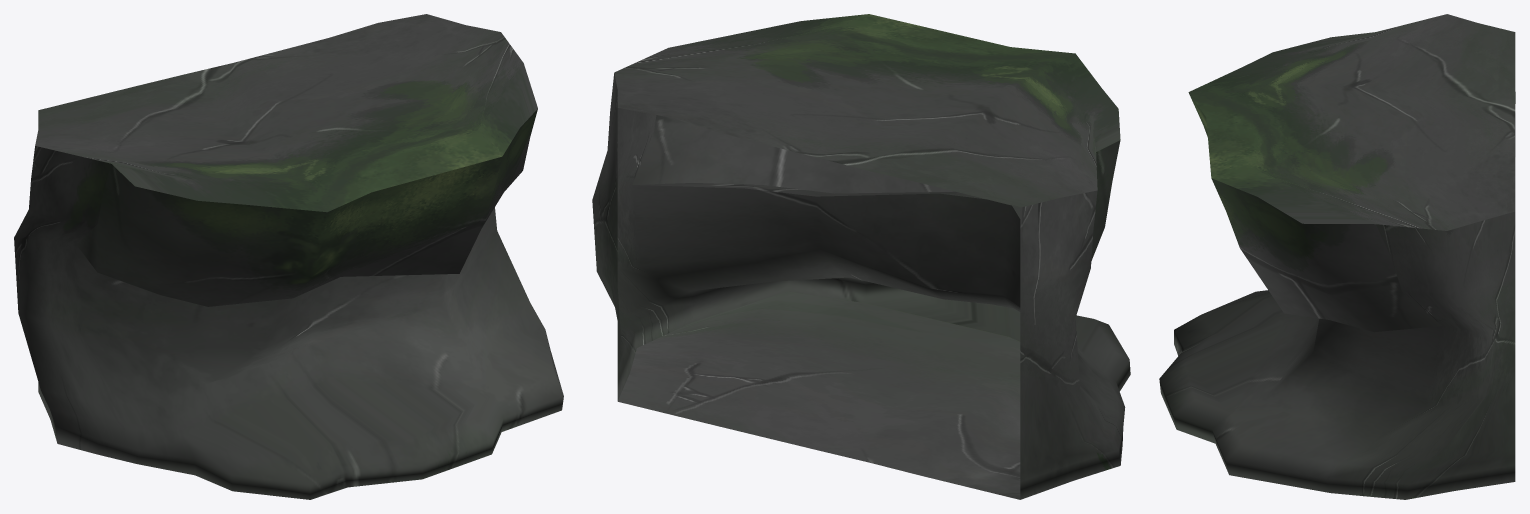
The model's file is cliff.fbx.
3 views of the same model, side by side, from view 1: azimuth 30°, elevation 25°; view 2: azimuth 150°, elevation 25°; view 3: azimuth 270°, elevation 25° (orthographic). The views are drawn at different scales.
Parts seen in each view (by area): view 1: pCube1; view 2: pCube1; view 3: pCube1.
Part boxes in pixels (x1,y1,x2,y2): pCube1: (14, 14, 563, 499); pCube1: (592, 14, 1130, 499); pCube1: (1159, 14, 1515, 499).
Bounding box in the file's own units: 14.2 × 8.38 × 9.85.
